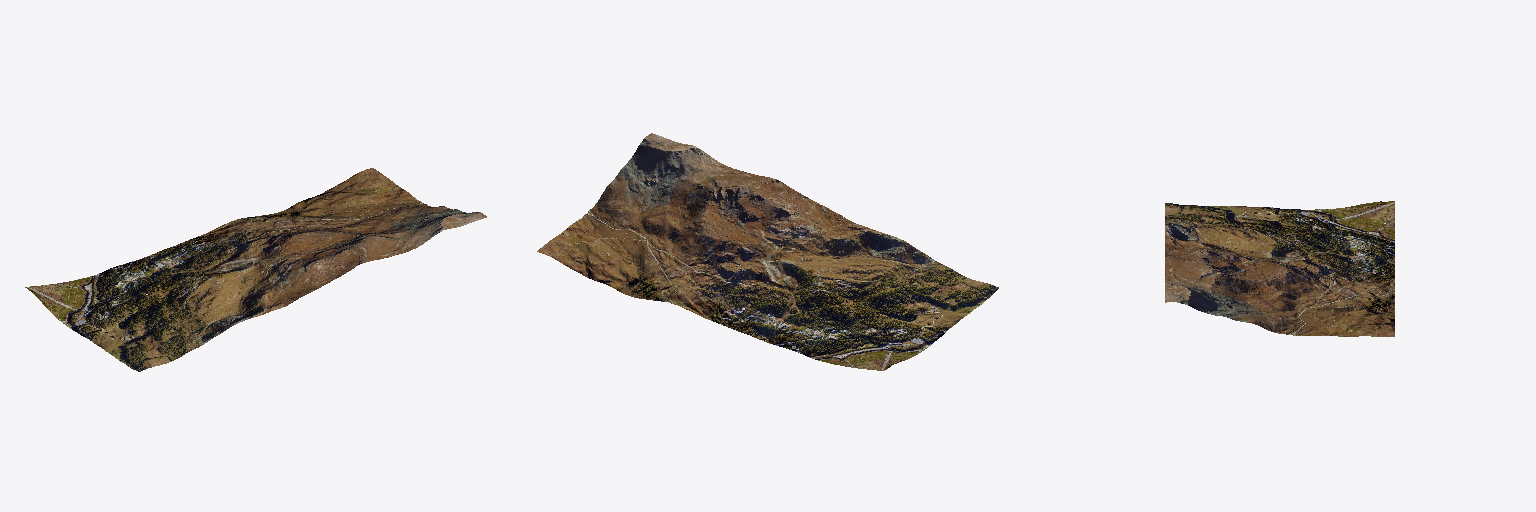
3 renders of one model, left to right at view 1: azimuth 30°, elevation 25°; view 2: azimuth 150°, elevation 25°; view 3: azimuth 270°, elevation 25°, orthographic.
Parts seen in each view (by area): view 1: EXPORT_GOOGLE_SAT_WM.004; view 2: EXPORT_GOOGLE_SAT_WM.004; view 3: EXPORT_GOOGLE_SAT_WM.004.
Part boxes in pixels (bbox=[...]): EXPORT_GOOGLE_SAT_WM.004: bbox=[25, 168, 486, 371]; EXPORT_GOOGLE_SAT_WM.004: bbox=[537, 133, 998, 370]; EXPORT_GOOGLE_SAT_WM.004: bbox=[1165, 201, 1394, 336].
Size of the model in its own units: 5323 by 1128 by 3041.
Materials: 1 (1 with a texture image).